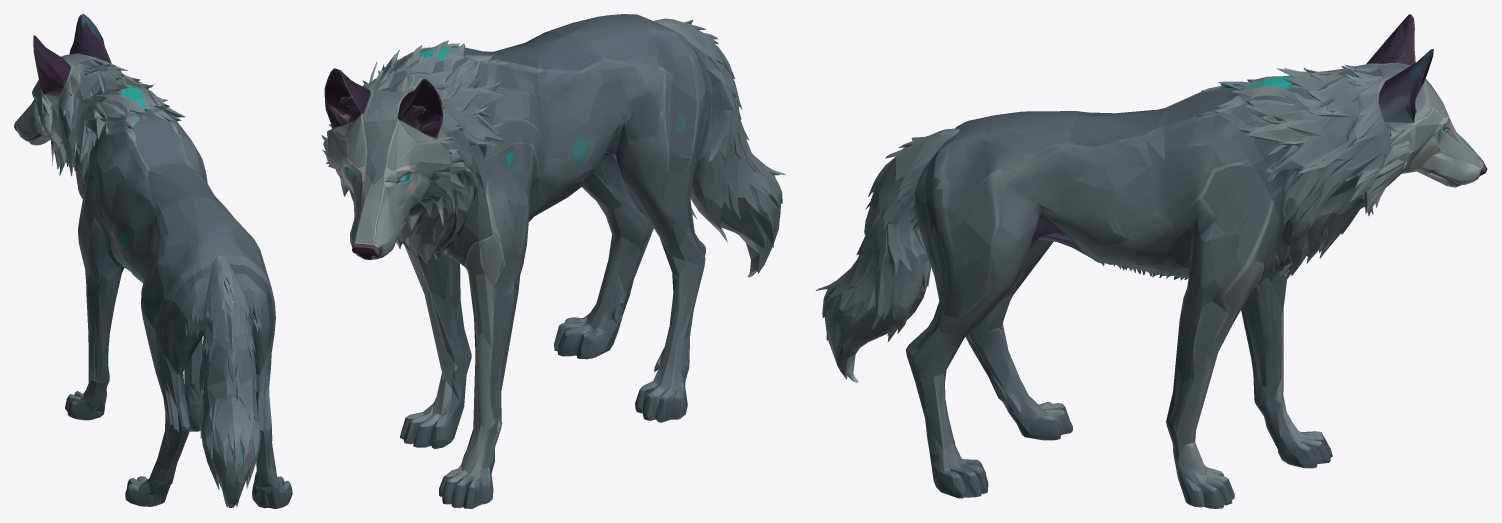
The model's file is wolf.glb.
3 views of the same model, side by side, from view 1: azimuth 30°, elevation 25°; view 2: azimuth 150°, elevation 25°; view 3: azimuth 270°, elevation 25° (orthographic). The views are drawn at different scales.
Visible parts, largest first — view 1: model; view 2: model; view 3: model.
Part boxes in pixels (x1=…): model: x1=14, y1=14, x2=292, y2=508; model: x1=321, y1=14, x2=785, y2=508; model: x1=815, y1=14, x2=1487, y2=508.
Size of the model in its own units: 0.6308 by 1.44 by 2.
1 material, 1 textured.
